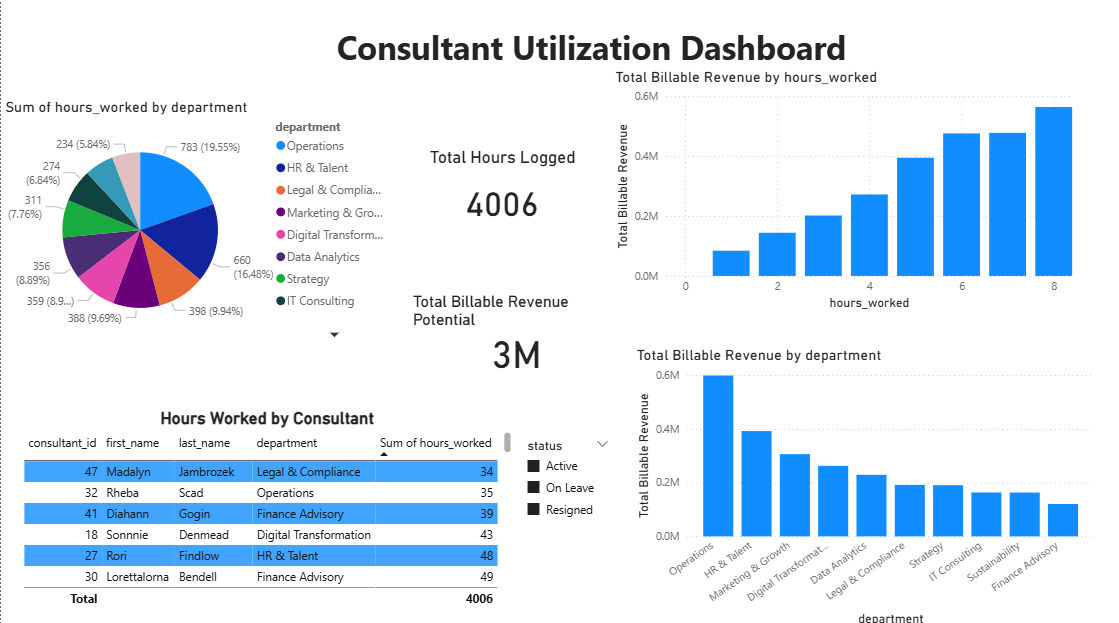

Layout of this report page (visuals, bound fields, positions):
{"tool":"powerbi","page":{"name":"Consultant Utilization","canvas":[1280,720],"ordinal":0},"visuals":[{"type":"card","title":"Total Hours Logged","fields":{"Values":["Timesheets.hours_worked"]},"box":[470,168.8,206.2,101.2],"z":0},{"type":"tableEx","title":"Hours Worked by Consultant","fields":{"Values":["consultants.consultant_id","consultants.first_name","consultants.last_name","consultants.department","Timesheets.hours_worked"]},"box":[20,467.1,568.6,232.9],"z":1000},{"type":"slicer","fields":{"Values":["consultants.status"]},"box":[588.8,495,117.5,123.8],"z":3000},{"type":"textbox","box":[378.7,24.7,610.6,107],"z":4000},{"type":"pieChart","fields":{"Category":["consultants.department"],"Y":["Timesheets.hours_worked"]},"box":[0,111.4,451.4,284.3],"z":5000},{"type":"card","title":"Total Billable Revenue Potential","fields":{"Values":["consultants.Total Billable Revenue"]},"box":[465,333.8,247.5,92.5],"z":6000},{"type":"clusteredColumnChart","fields":{"Category":["consultants.department"],"Y":["consultants.Total Billable Revenue"]},"box":[721.4,395.7,532.9,324.3],"z":7000},{"type":"clusteredColumnChart","fields":{"Y":["consultants.Total Billable Revenue"],"Category":["Timesheets.hours_worked"]},"box":[696.7,77.8,532.2,282.2],"z":8000}]}

Visuals, with their boxes in screenshot pixels (x1, y1, x2, y2), scaled from the page's 1280x720 canvas onto the 1119x623 screenshot:
"Total Hours Logged" card: bbox=(411, 146, 591, 234)
"Hours Worked by Consultant" tableEx: bbox=(17, 404, 515, 606)
slicer - consultants.status: bbox=(515, 428, 617, 535)
textbox: bbox=(331, 21, 865, 114)
pieChart - consultants.department x Timesheets.hours_worked: bbox=(0, 96, 395, 342)
"Total Billable Revenue Potential" card: bbox=(407, 289, 623, 369)
clusteredColumnChart - consultants.department x consultants.Total Billable Revenue: bbox=(631, 342, 1097, 622)
clusteredColumnChart - consultants.Total Billable Revenue x Timesheets.hours_worked: bbox=(609, 67, 1074, 312)
